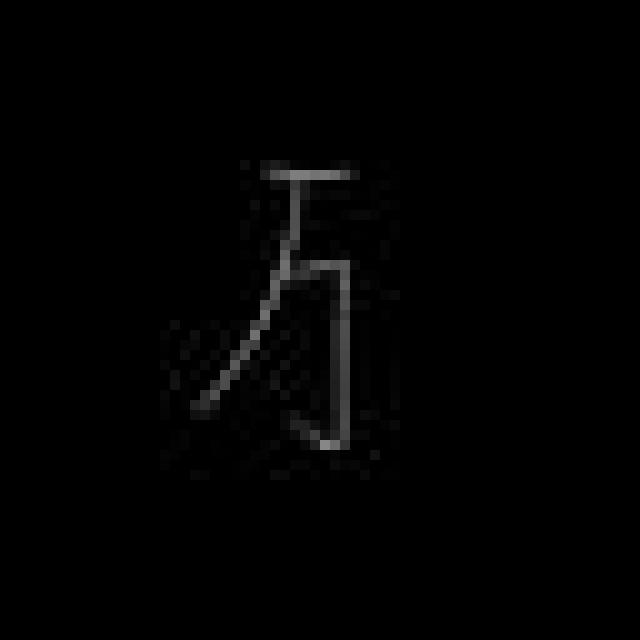10000 -a ten thousand-: (186, 147, 369, 468)
